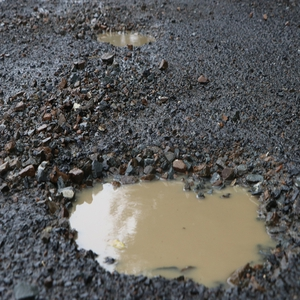pothole: (56, 154, 283, 293), (86, 29, 158, 48)
